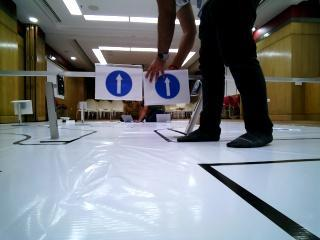straight: (93, 63, 140, 101), (143, 72, 191, 103)
